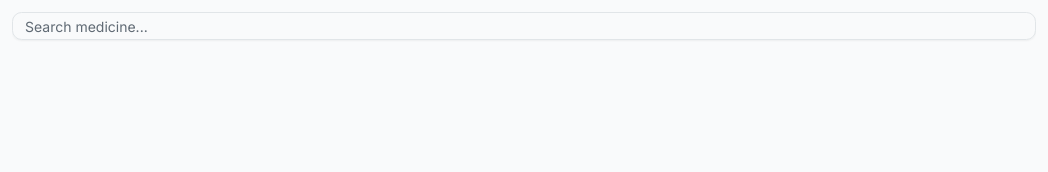
Test case: MedicineSelect › shows empty state when no products match search
Focus the dropdown. click: (524, 26)
box: [12, 12, 1036, 40]
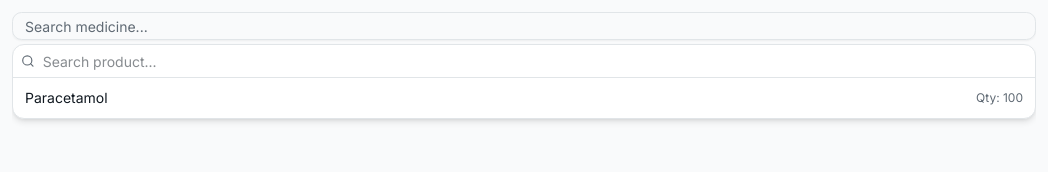
Expected: the text "Paracetamol" is shown, [25, 88, 108, 108]
Type "zzzzz" into the field with placeholder "Search product...". click: (535, 61)
box: [43, 45, 1027, 77]
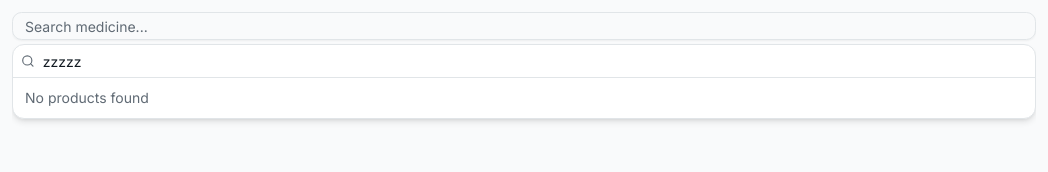
Expected: the text "No products found" is shown, [25, 89, 149, 106]
